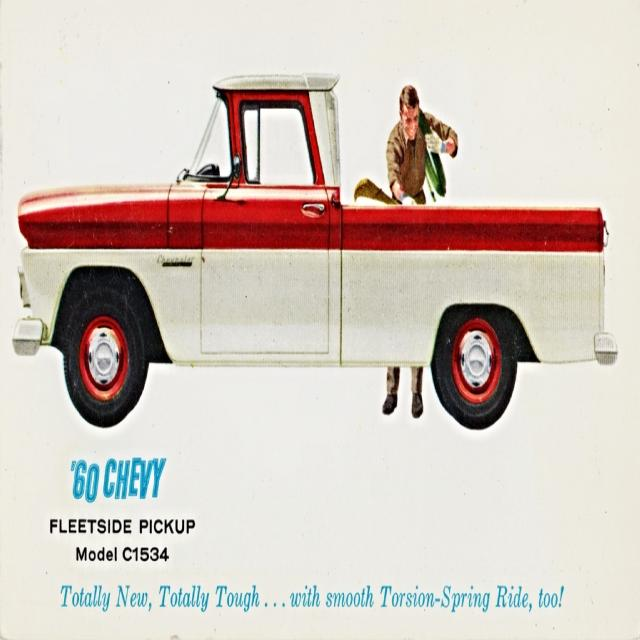car: (14, 66, 621, 448)
